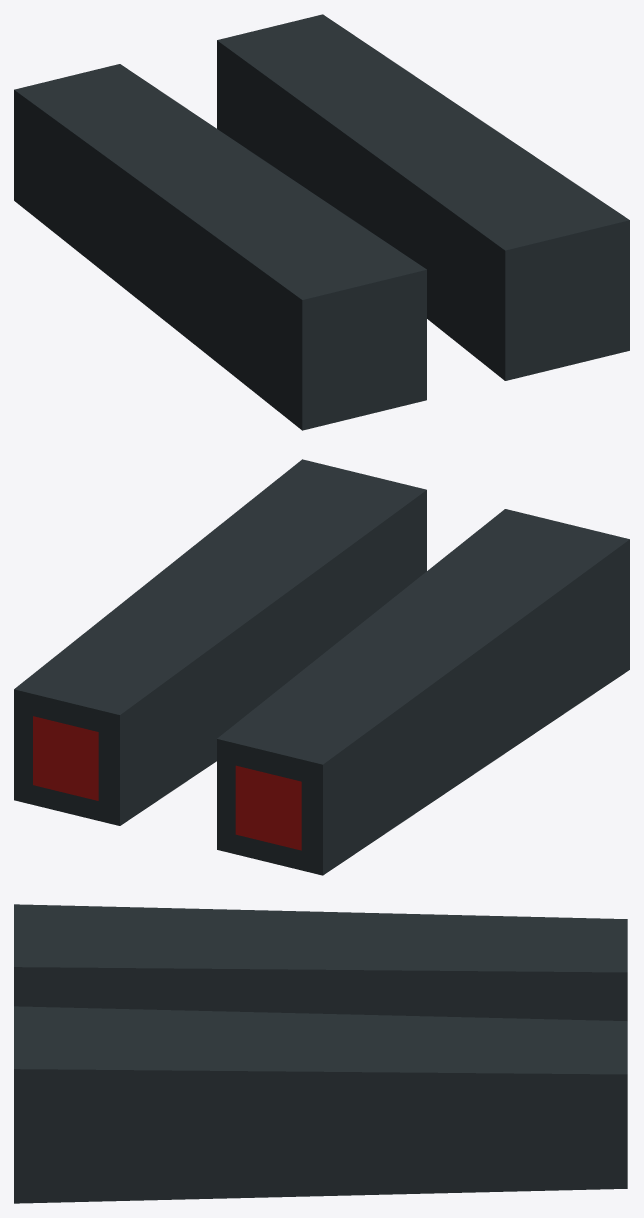
The picture shows the model from 3 angles, top to bottom: view 1: azimuth 30°, elevation 25°; view 2: azimuth 150°, elevation 25°; view 3: azimuth 270°, elevation 25°; orthographic projection. The views are drawn at different scales.
Parts seen in each view (by area): view 1: mount; view 2: mount; view 3: mount.
Boxes of the visible parts, box(x1,y1,x2,y2) form: mount: box(14, 14, 629, 430); mount: box(14, 459, 629, 875); mount: box(14, 904, 627, 1203).
Bounding box in the file's own units: 4.83 × 1.84 × 7.63.
